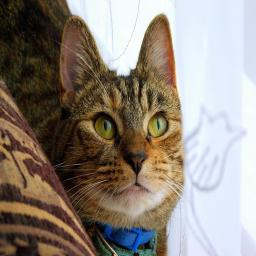catnose: (120, 148, 150, 180)
